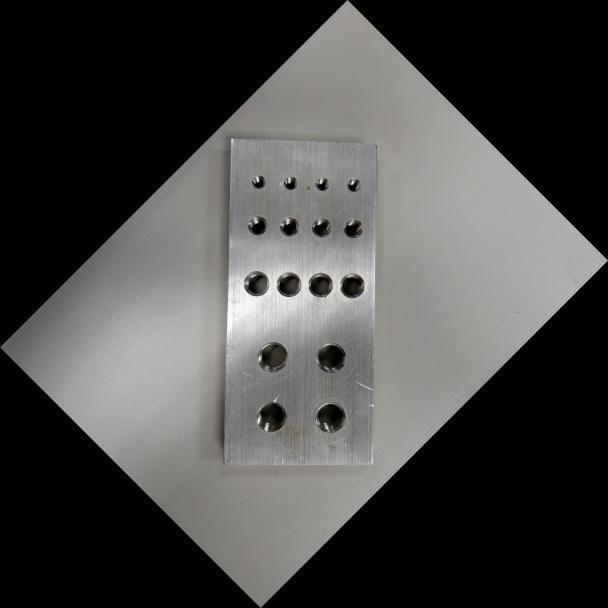hole: (308, 335, 353, 380), (250, 334, 295, 379), (308, 395, 353, 440), (249, 394, 293, 439), (237, 264, 275, 302), (301, 266, 339, 303), (333, 267, 370, 304), (270, 266, 307, 303), (338, 213, 368, 243), (306, 212, 336, 242), (274, 211, 304, 241), (243, 211, 272, 240), (247, 171, 269, 193), (280, 172, 301, 193), (343, 174, 364, 195), (312, 174, 332, 194)
